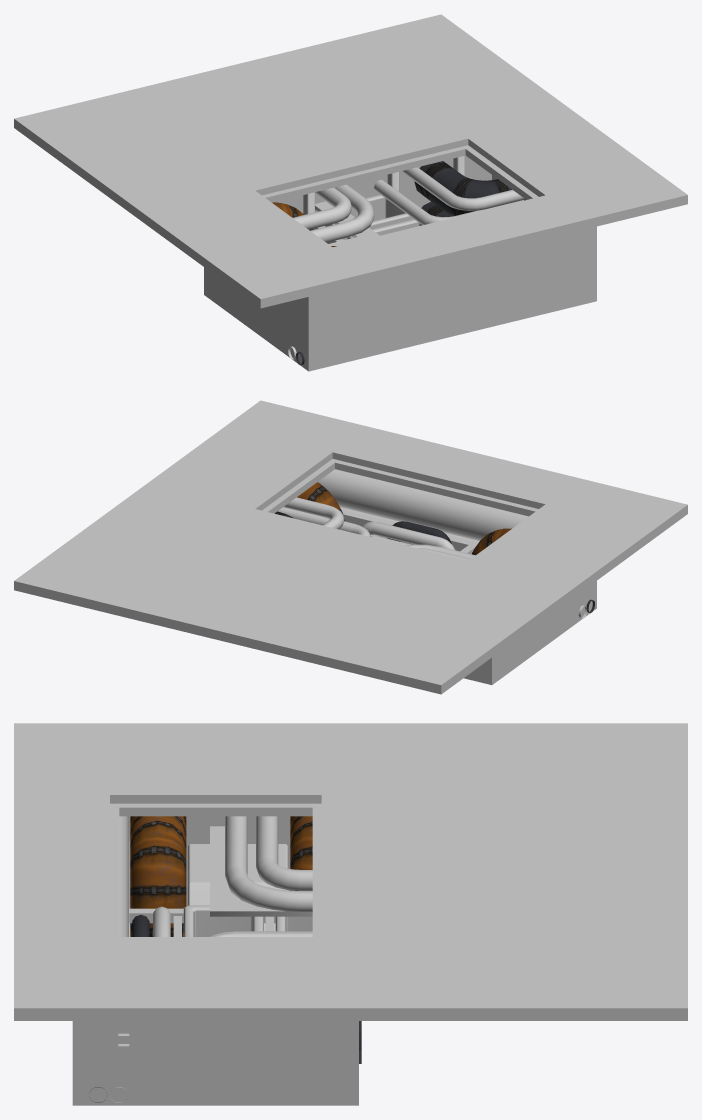
Rendered from Prop_Floor_Base_08.fbx.
The picture shows the model from 3 angles, top to bottom: view 1: azimuth 30°, elevation 25°; view 2: azimuth 150°, elevation 25°; view 3: azimuth 270°, elevation 25°; orthographic projection. The views are drawn at different scales.
Parts seen in each view (by area): view 1: Prop_Floor_Base_08; view 2: Prop_Floor_Base_08; view 3: Prop_Floor_Base_08.
Boxes of the visible parts, x1,y1,x2,y2 form: Prop_Floor_Base_08: [14, 14, 687, 371]; Prop_Floor_Base_08: [14, 400, 687, 694]; Prop_Floor_Base_08: [14, 723, 687, 1105].
Size of the model in its own units: 6000 by 6000 by 1442.
